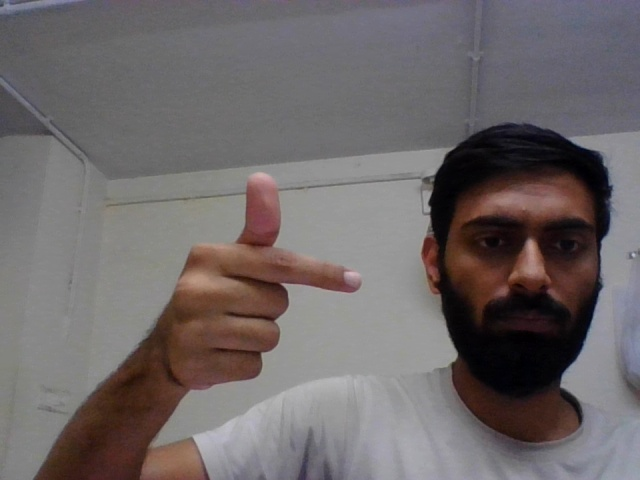T: (144, 168, 368, 393)
